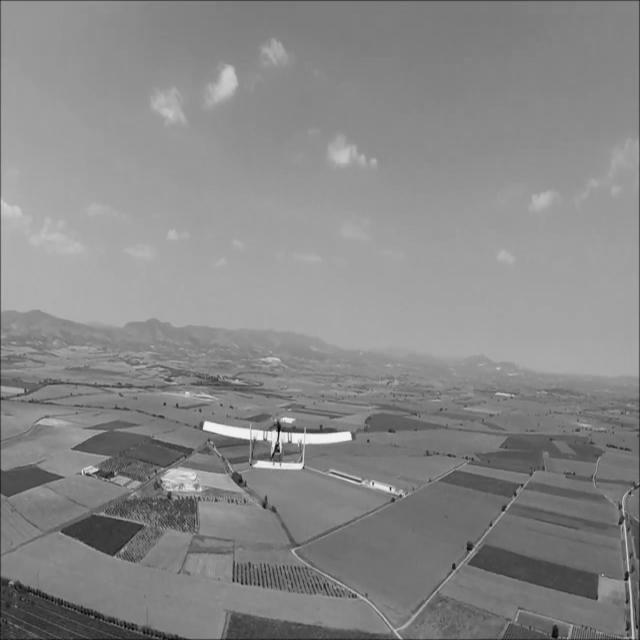iha: (196, 450, 356, 455)
